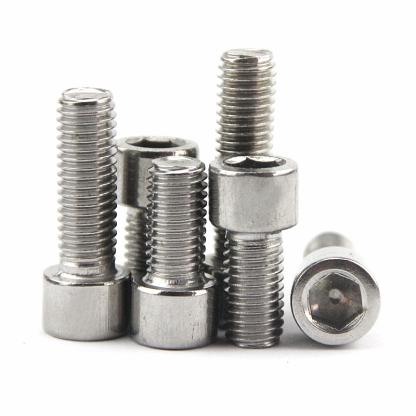FOD: (35, 83, 129, 347), (208, 148, 300, 352), (132, 154, 218, 355), (113, 129, 200, 292), (290, 227, 384, 349)
